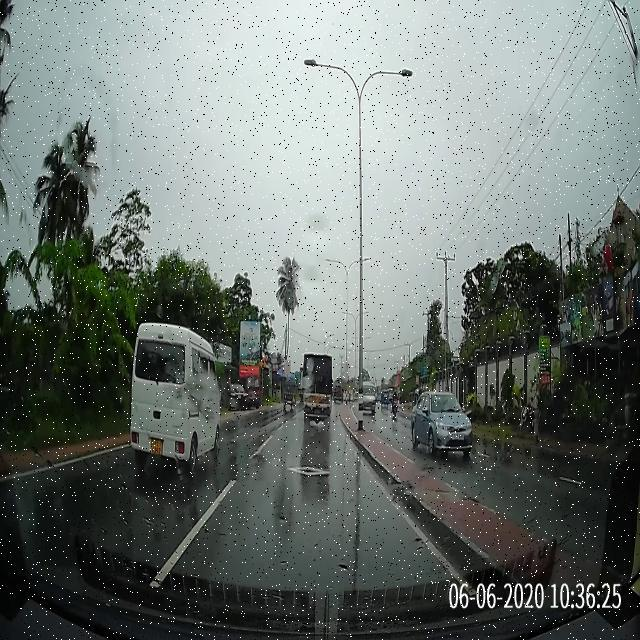diamond: (241, 454, 381, 485)
